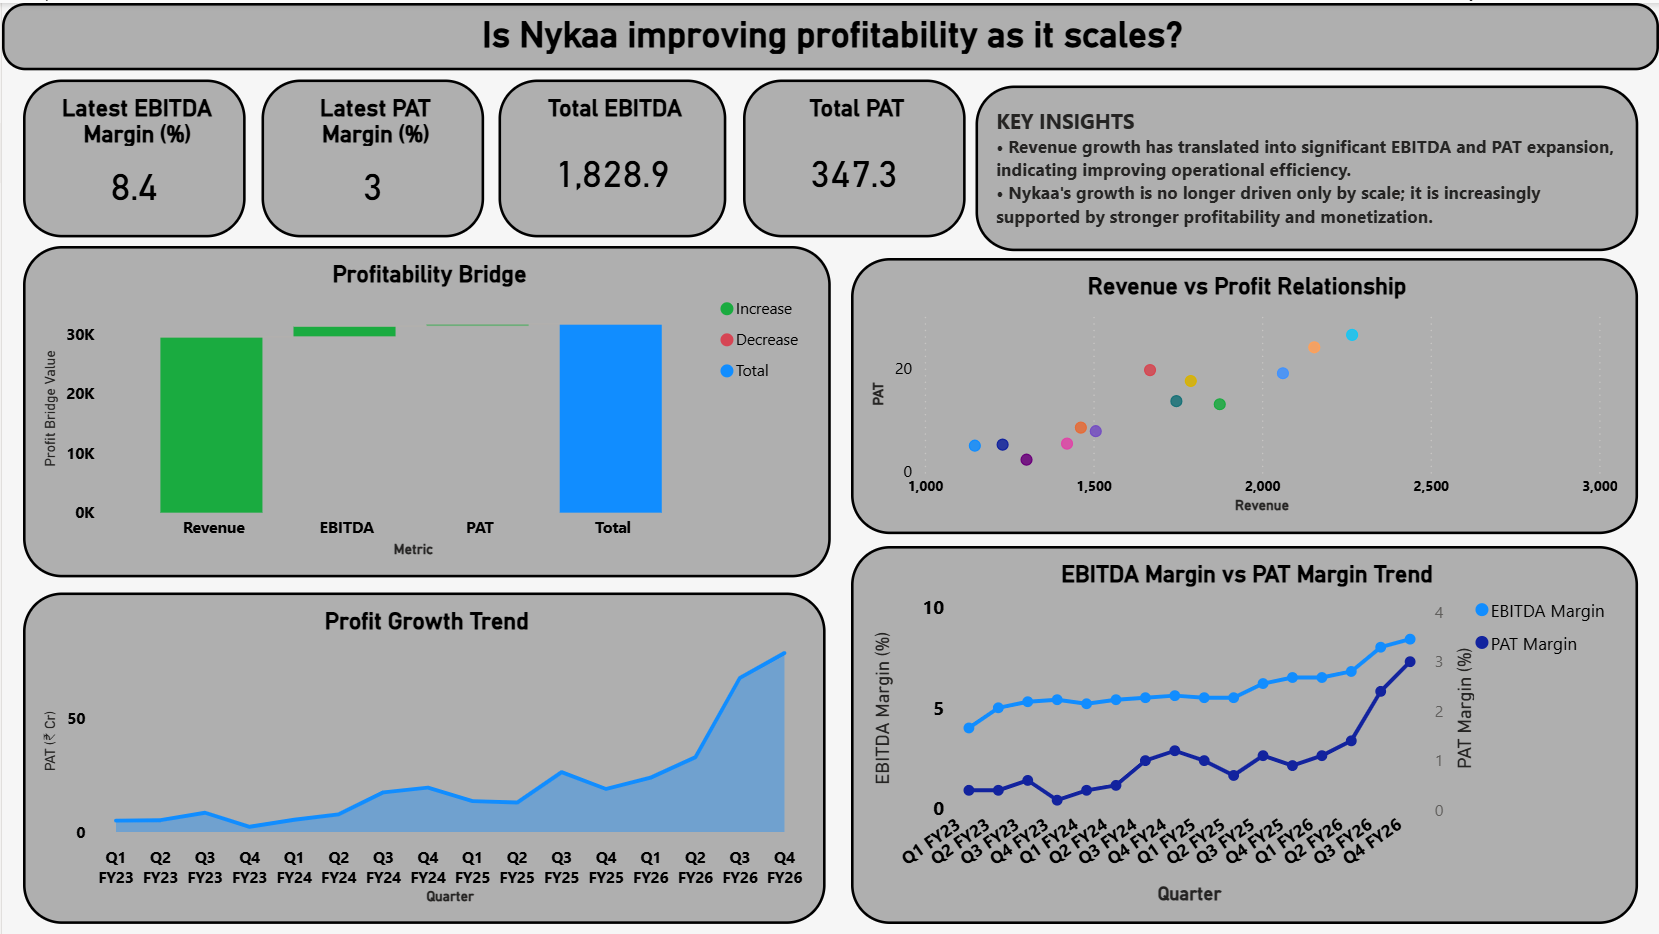

What the dashboard file says about the page in this screenshot:
{"tool":"powerbi","page":{"name":"Profitability_Analysis","canvas":[1280,720],"ordinal":3},"visuals":[{"type":"textbox","title":"Is Nykaa improving profitability as it scales?","box":[0,0,1280,52],"z":0},{"type":"card","title":"Latest EBITDA Margin (%)","fields":{"Values":["nykaa_master.Latest EBITDA Margin"]},"box":[16,59,172,122],"z":1000},{"type":"card","title":"Latest PAT Margin (%)","fields":{"Values":["nykaa_master.Latest PAT Margin"]},"box":[200,59,172,122],"z":2000},{"type":"card","title":"Total EBITDA","fields":{"Values":["nykaa_master.Total EBITDA"]},"box":[384,59,176,122],"z":3000},{"type":"card","title":"Total PAT","fields":{"Values":["nykaa_master.Total PAT"]},"box":[572,59,172,122],"z":4000},{"type":"lineChart","title":"EBITDA Margin vs PAT Margin Trend","fields":{"Category":["nykaa_master.quarter"],"Y":["Sum(nykaa_master.ebitda_margin)"],"Y2":["Sum(nykaa_master.pat_margin)"]},"box":[656,419,608,292],"z":5000},{"type":"scatterChart","title":"Revenue vs Profit Relationship","fields":{"Y":["nykaa_master.pat_cr"],"Series":["nykaa_master.quarter"],"X":["nykaa_master.revenue_cr"]},"box":[656,197,608,213],"z":6000},{"type":"areaChart","title":"Profit Growth Trend","fields":{"Category":["nykaa_master.quarter"],"Y":["Sum(nykaa_master.pat_cr)"]},"box":[16,455,620,256],"z":7000},{"type":"waterfallChart","title":"Profitability Bridge","fields":{"Category":["Profit Bridge.Metric"],"Y":["Profit Bridge.Profit Bridge Value"]},"box":[16,188,624,256],"z":8000},{"type":"textbox","box":[752,64,512,128],"z":9000}]}

Visuals, with their boxes in screenshot pixels (x1, y1, x2, y2), scaled from the page's 1280x720 canvas onto the 1659x934 screenshot:
"Is Nykaa improving profitability as it scales?" textbox: rect(0, 0, 1658, 67)
"Latest EBITDA Margin (%)" card: rect(21, 77, 244, 235)
"Latest PAT Margin (%)" card: rect(259, 77, 482, 235)
"Total EBITDA" card: rect(498, 77, 726, 235)
"Total PAT" card: rect(741, 77, 964, 235)
"EBITDA Margin vs PAT Margin Trend" lineChart: rect(850, 544, 1638, 922)
"Revenue vs Profit Relationship" scatterChart: rect(850, 256, 1638, 532)
"Profit Growth Trend" areaChart: rect(21, 590, 824, 922)
"Profitability Bridge" waterfallChart: rect(21, 244, 830, 576)
textbox: rect(975, 83, 1638, 249)
